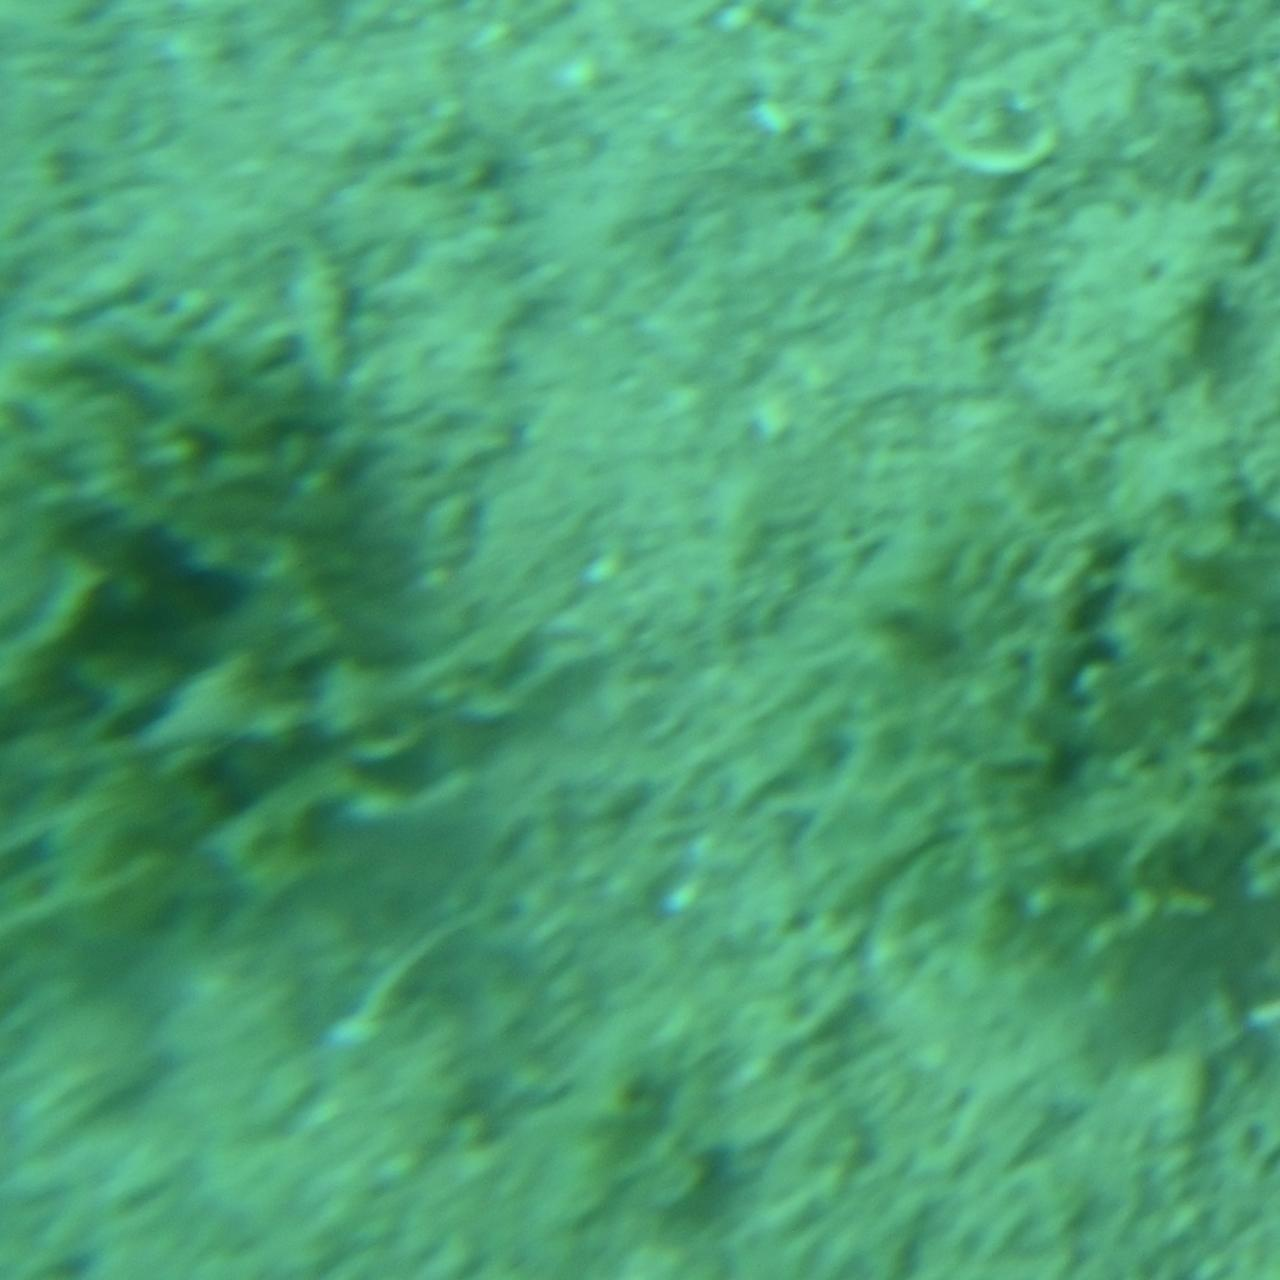Phaeophyceae -cfr Cystoseira-: (0, 288, 557, 992)
